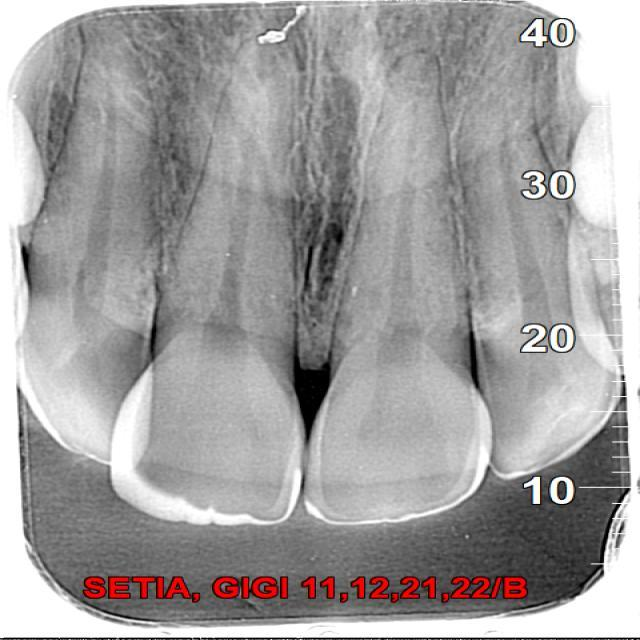individual-tooth-8tto: (108, 42, 309, 528), (297, 61, 491, 525)
